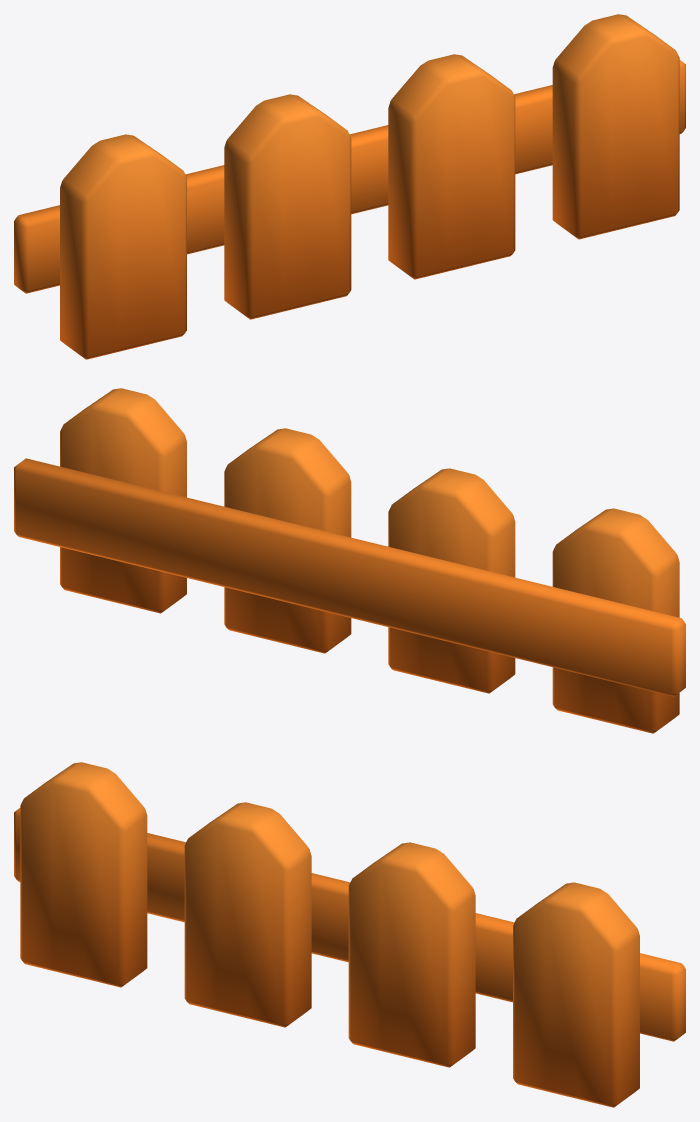
The model's file is Prop_Fence_A_01.fbx.
3 renders of one model, top to bottom at view 1: azimuth 30°, elevation 25°; view 2: azimuth 150°, elevation 25°; view 3: azimuth 330°, elevation 25°, orthographic.
Visible parts, largest first — view 1: Prop_Fence_A_01; view 2: Prop_Fence_A_01; view 3: Prop_Fence_A_01.
Boxes of the visible parts, bbox=[...] form: Prop_Fence_A_01: bbox=[14, 14, 685, 359]; Prop_Fence_A_01: bbox=[14, 388, 685, 733]; Prop_Fence_A_01: bbox=[14, 762, 685, 1107].
Size of the model in its own units: 200 by 56.02 by 20.67.
